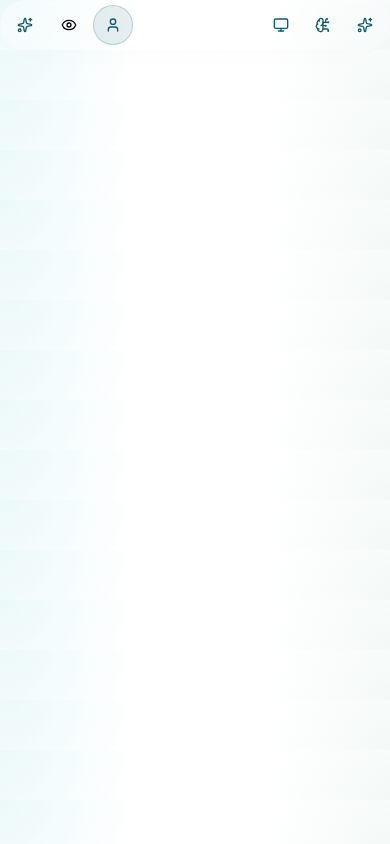
it: TopbarActionCluster › su mobile espande la capsula verso il basso senza usare pannelli inline desktop
Click the button with test id "topbar-mobile-trigger-flash" at x=25, y=25, box [5,5,45,45]
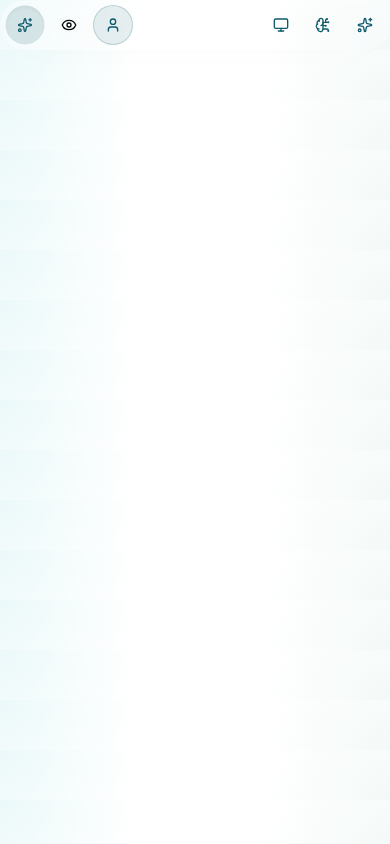
Click the button with test id "topbar-mobile-trigger-theme" at x=281, y=25, box [261,5,301,45]
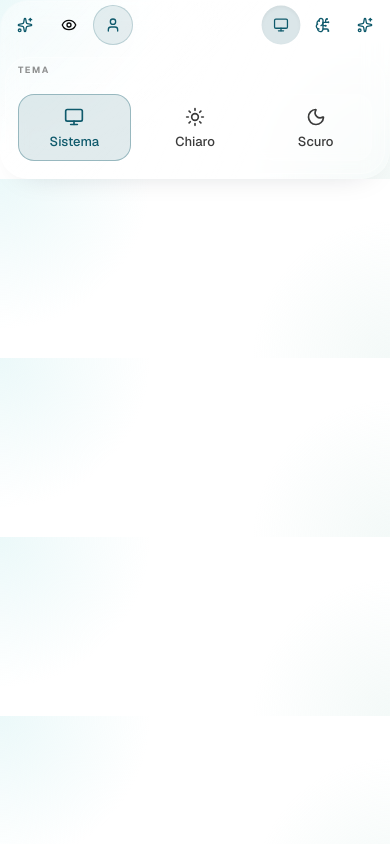
Now the element with test id "topbar-mobile-panel" is shown, box [5,57,385,174]
Now the text "Tema" is shown, box [18,66,50,75]
Click the button with test id "topbar-mobile-trigger-quick" at x=365, y=25, box [345,5,385,45]
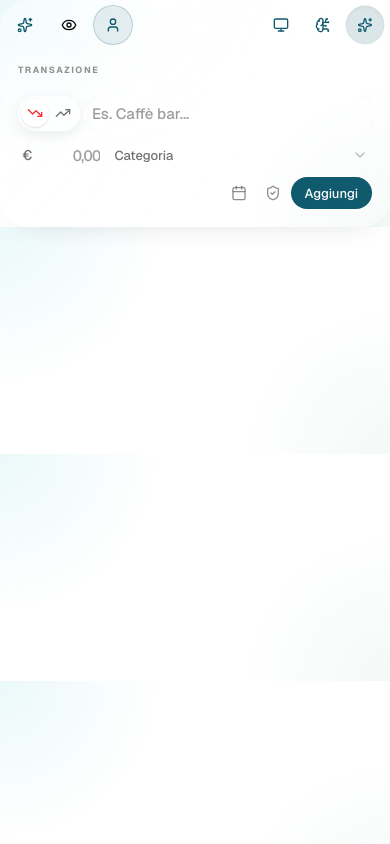
Now the element with test id "topbar-mobile-panel" is shown, box [5,57,385,222]
Now the text "Transazione" is shown, box [18,66,100,75]
Now the button named "Registra come Uscita" is shown, box [21,99,49,127]
